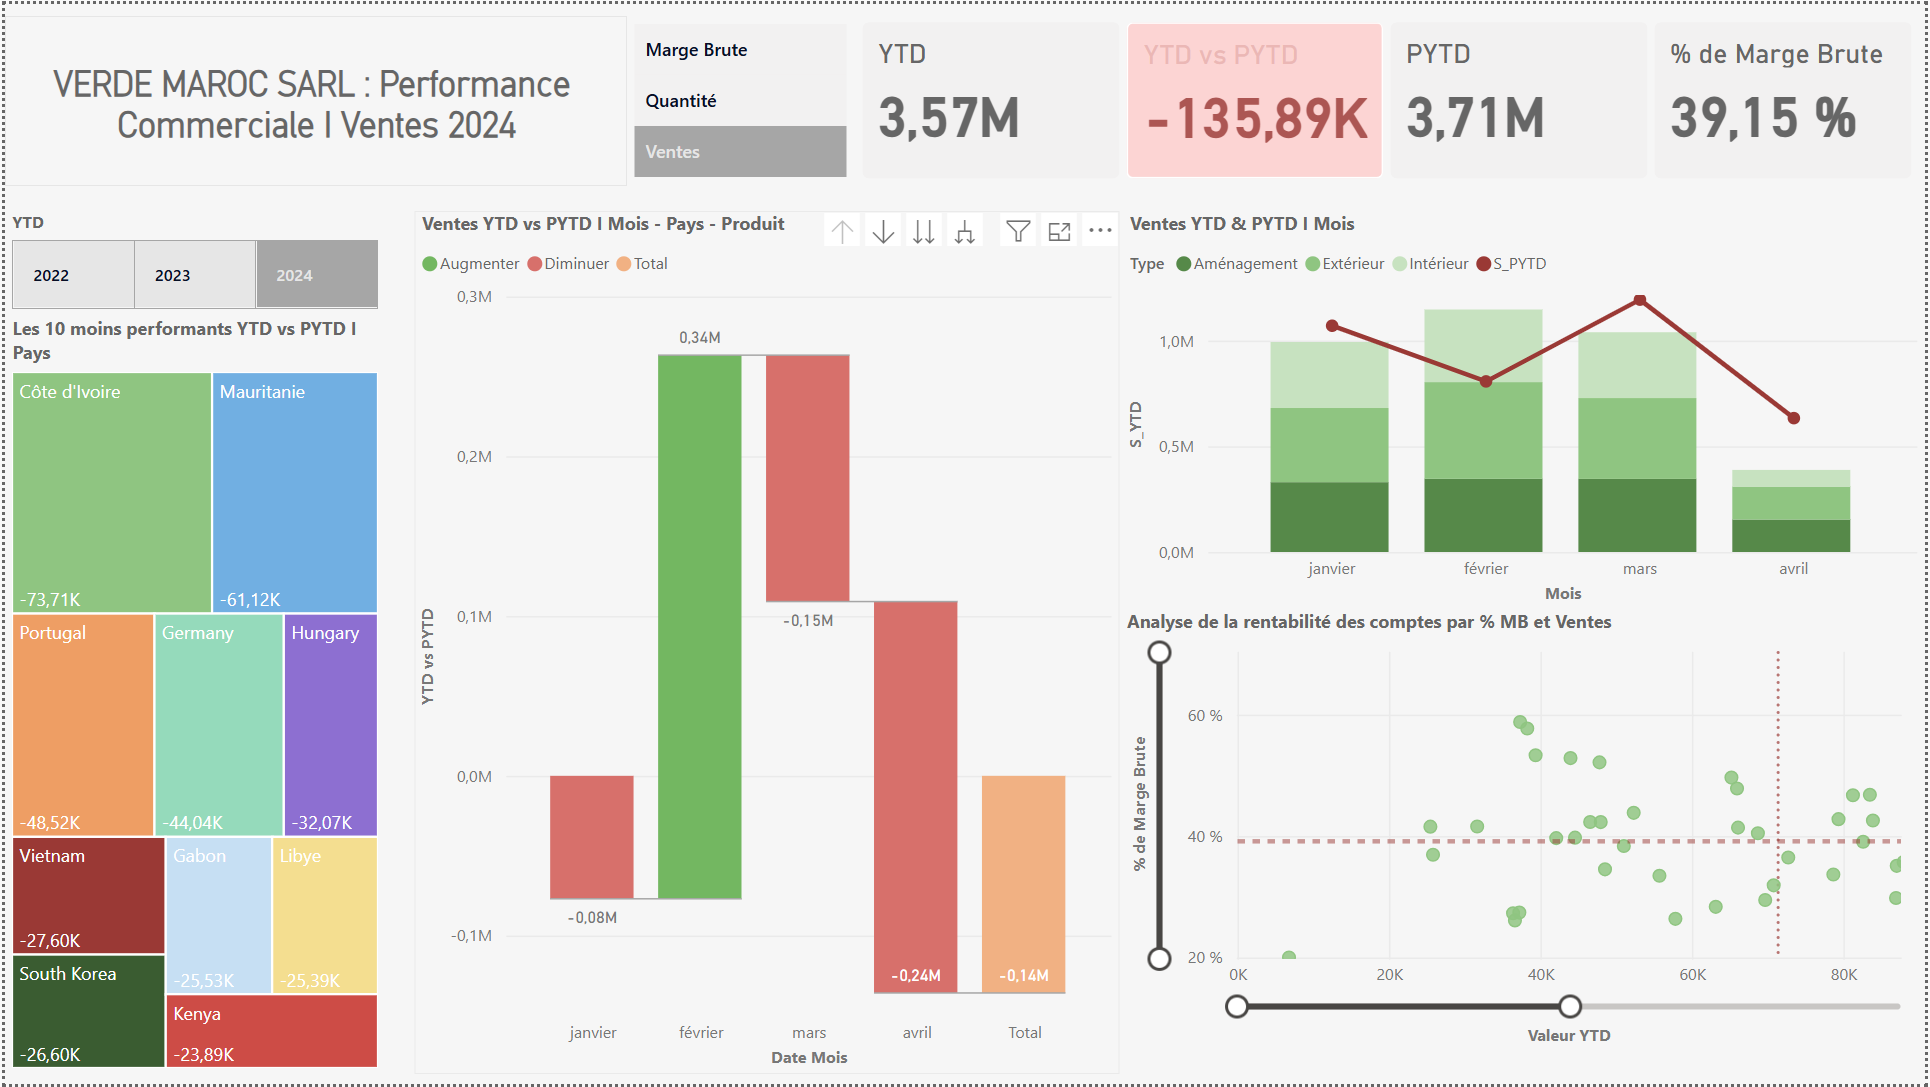

The dashboard page shown, as its layout file describes it:
{"tool":"powerbi","page":{"name":"TDB Commercial","canvas":[1280,720],"ordinal":0},"visuals":[{"type":"cardVisual","fields":{"Data":["Mesures.S_YTD","Mesures.YTD vs PYTD","Mesures.S_PYTD","Mesures.% de Marge Brute"]},"box":[567.4,7.2,711,113.7],"z":0},{"type":"advancedSlicerVisual","fields":{"Values":["Tbl_Valeurs.Valeurs"]},"box":[415,7.5,151.2,113.8],"z":2000},{"type":"treemap","title":"Les 10 moins performants YTD vs PYTD I Pays ","fields":{"Values":["Mesures.YTD vs PYTD"],"Group":["Dim_Comptes.Pays"]},"box":[0,207.5,253.8,506.2],"z":3000},{"type":"waterfallChart","fields":{"Y":["Mesures.YTD vs PYTD"],"Category":["Dim_Date.Date.Variation.Hiérarchie de dates.Mois","Dim_Comptes.Pays","Dim_Produits.Type","Dim_Produits.Nom_Produit"]},"box":[272.9,137.7,470.4,575.8],"z":4000},{"type":"lineStackedColumnComboChart","fields":{"Y":["Mesures.S_YTD"],"Y2":["Mesures.S_PYTD"],"Series":["Dim_Produits.Type"],"Category":["Dim_Date.Date.Variation.Hiérarchie de dates.Trimestre","Dim_Date.Date.Variation.Hiérarchie de dates.Mois"]},"box":[745,137.5,535,266.2],"z":5000},{"type":"scatterChart","fields":{"Y":["Mesures.% de Marge Brute"],"X":["Mesures.S_YTD"],"Category":["Dim_Comptes.Compte"]},"box":[743.3,403.4,535.1,292.1],"z":6000},{"type":"advancedSlicerVisual","title":"YTD","fields":{"Values":["Dim_Date.Date.Variation.Hiérarchie de dates.Année"]},"box":[0,137.5,253.8,70],"z":6001},{"type":"card","fields":{"Values":["Mesures.Titre Report"]},"box":[0,7.5,415,113.8],"z":6002}]}

Visuals, with their boxes in screenshot pixels (x1, y1, x2, y2), scaled from the page's 1280x720 canvas onto the 1930x1087 screenshot:
cardVisual - Mesures.S_YTD x Mesures.YTD vs PYTD: locate(856, 11, 1928, 183)
advancedSlicerVisual - Tbl_Valeurs.Valeurs: locate(626, 11, 854, 183)
"Les 10 moins performants YTD vs PYTD I Pays " treemap: locate(0, 313, 383, 1077)
waterfallChart - Mesures.YTD vs PYTD x Dim_Date.Date.Variation.Hiérarchie de dates.Mois: locate(411, 208, 1121, 1077)
lineStackedColumnComboChart - Mesures.S_YTD x Mesures.S_PYTD: locate(1123, 208, 1929, 609)
scatterChart - Mesures.% de Marge Brute x Mesures.S_YTD: locate(1121, 609, 1928, 1050)
"YTD" advancedSlicerVisual: locate(0, 208, 383, 313)
card - Mesures.Titre Report: locate(0, 11, 626, 183)
